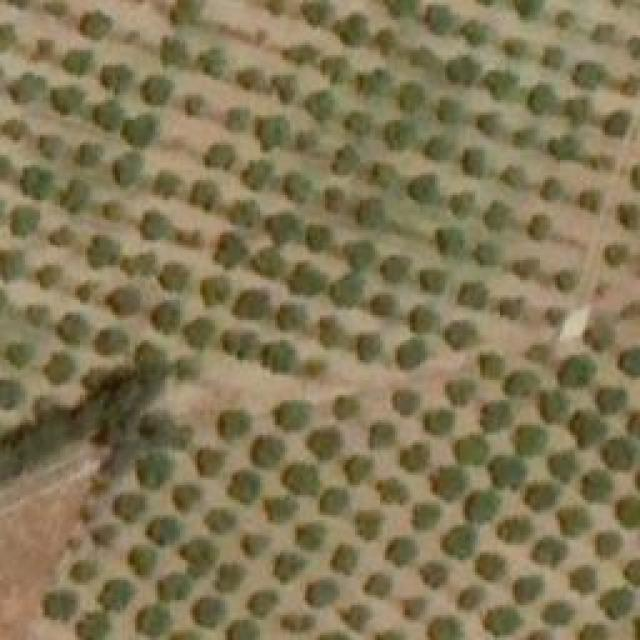Tree: (175, 537, 220, 575), (355, 198, 400, 233), (287, 260, 325, 298), (570, 410, 608, 448), (353, 65, 393, 100), (135, 453, 175, 488), (255, 115, 288, 153), (213, 232, 246, 270), (318, 312, 351, 350), (305, 428, 343, 461), (272, 398, 310, 431), (333, 13, 368, 48), (560, 353, 595, 388), (220, 330, 260, 360), (123, 113, 156, 148), (303, 90, 336, 125), (105, 285, 140, 318), (445, 318, 480, 351), (405, 173, 440, 206), (248, 435, 283, 468), (135, 605, 170, 638), (245, 248, 283, 278), (230, 288, 268, 318), (20, 168, 53, 201), (90, 98, 123, 131), (265, 213, 298, 246), (88, 235, 121, 268), (183, 315, 216, 348), (480, 400, 513, 433), (515, 425, 548, 458), (228, 473, 261, 506), (112, 150, 140, 188), (58, 178, 88, 213), (10, 73, 45, 103), (78, 10, 113, 40), (150, 300, 180, 335), (260, 343, 295, 373), (383, 120, 418, 150), (420, 5, 455, 35), (285, 465, 320, 495), (145, 515, 180, 545), (98, 580, 133, 610), (98, 63, 131, 93), (138, 210, 171, 240), (158, 263, 191, 293), (330, 275, 363, 305), (395, 80, 425, 113), (448, 55, 481, 85), (485, 70, 518, 100), (538, 390, 568, 423), (218, 410, 251, 440), (343, 455, 376, 485), (273, 553, 306, 583), (195, 595, 225, 628), (43, 590, 76, 620), (78, 610, 111, 640), (603, 438, 636, 468), (123, 250, 158, 278), (363, 160, 398, 188), (373, 475, 408, 503), (193, 447, 228, 475), (158, 572, 193, 600), (10, 205, 38, 238), (50, 87, 83, 115), (203, 142, 236, 170), (282, 173, 310, 206), (190, 180, 218, 213), (343, 240, 376, 268), (455, 280, 488, 308), (423, 135, 456, 163), (583, 322, 616, 350), (305, 580, 338, 608), (245, 590, 278, 618), (493, 457, 526, 485), (600, 590, 633, 618), (140, 75, 170, 105), (303, 0, 333, 30), (243, 160, 273, 190), (45, 353, 75, 383), (395, 340, 425, 370), (435, 228, 465, 258), (353, 510, 383, 540), (213, 563, 243, 593), (115, 493, 145, 523), (468, 490, 498, 520), (503, 373, 538, 398), (430, 470, 465, 495), (0, 380, 28, 410), (157, 38, 185, 68), (197, 48, 225, 78), (343, 110, 373, 138), (332, 145, 360, 175), (152, 170, 180, 200), (200, 278, 228, 308), (275, 302, 305, 330), (58, 315, 88, 343), (95, 327, 125, 355), (435, 95, 465, 123), (483, 200, 513, 228), (455, 15, 485, 43), (572, 60, 600, 90), (410, 48, 438, 78), (595, 387, 625, 415), (423, 407, 453, 435), (367, 420, 395, 450), (295, 522, 325, 550), (388, 537, 418, 565), (410, 502, 440, 530), (330, 545, 358, 575), (340, 602, 370, 630), (528, 480, 558, 508), (445, 525, 475, 553), (582, 470, 610, 500), (176, 358, 206, 386), (0, 250, 25, 283), (300, 225, 333, 250), (548, 133, 581, 158), (265, 495, 298, 520), (455, 435, 488, 460), (75, 140, 103, 168), (230, 200, 258, 228), (410, 305, 438, 333), (527, 85, 555, 113), (602, 110, 630, 138), (445, 377, 473, 405), (392, 390, 420, 418), (205, 507, 233, 535), (283, 43, 316, 66), (365, 293, 398, 316), (500, 518, 533, 541), (535, 538, 568, 561), (543, 600, 576, 623), (65, 48, 90, 78), (170, 0, 200, 25), (355, 333, 380, 363), (460, 148, 485, 178), (475, 353, 505, 378), (403, 443, 428, 473), (130, 548, 155, 578), (558, 508, 588, 533), (550, 453, 575, 483), (513, 578, 543, 603), (615, 204, 639, 234), (7, 343, 35, 368), (323, 55, 348, 83), (35, 262, 60, 290), (380, 255, 408, 280), (450, 190, 475, 218), (565, 97, 590, 125), (575, 188, 603, 213), (375, 27, 400, 55), (175, 482, 200, 510), (365, 573, 393, 598), (280, 613, 315, 633), (70, 558, 98, 583), (420, 563, 448, 588), (273, 73, 296, 103), (295, 358, 325, 381), (605, 240, 628, 270), (490, 608, 520, 631), (617, 495, 640, 525), (225, 620, 258, 640), (417, 270, 445, 293), (475, 113, 503, 136), (528, 212, 551, 240), (510, 255, 538, 278), (590, 23, 618, 46), (320, 490, 348, 513), (240, 533, 268, 556), (223, 108, 248, 133), (473, 240, 498, 265), (45, 225, 75, 245), (170, 228, 200, 248), (513, 0, 543, 20), (620, 348, 640, 378), (40, 135, 63, 160), (0, 118, 25, 141), (103, 198, 128, 221), (500, 165, 525, 188), (498, 298, 523, 321), (478, 555, 503, 578), (168, 428, 193, 451), (522, 343, 550, 363), (430, 620, 458, 640), (388, 0, 418, 18), (30, 40, 53, 63), (238, 68, 261, 91), (540, 178, 563, 201), (335, 395, 358, 418), (598, 533, 621, 556), (323, 188, 343, 213), (543, 45, 563, 70), (553, 270, 578, 290), (400, 598, 425, 618), (458, 588, 483, 608), (295, 130, 315, 153), (75, 280, 95, 303), (503, 38, 526, 58), (620, 73, 640, 96), (93, 525, 116, 545), (573, 568, 593, 591), (265, 0, 288, 18), (513, 127, 536, 145), (45, 0, 65, 20), (28, 305, 48, 325), (617, 300, 640, 317), (628, 160, 640, 192), (0, 25, 15, 50), (185, 95, 203, 115), (553, 10, 573, 28), (545, 307, 565, 325), (625, 35, 640, 58), (595, 280, 610, 298)
